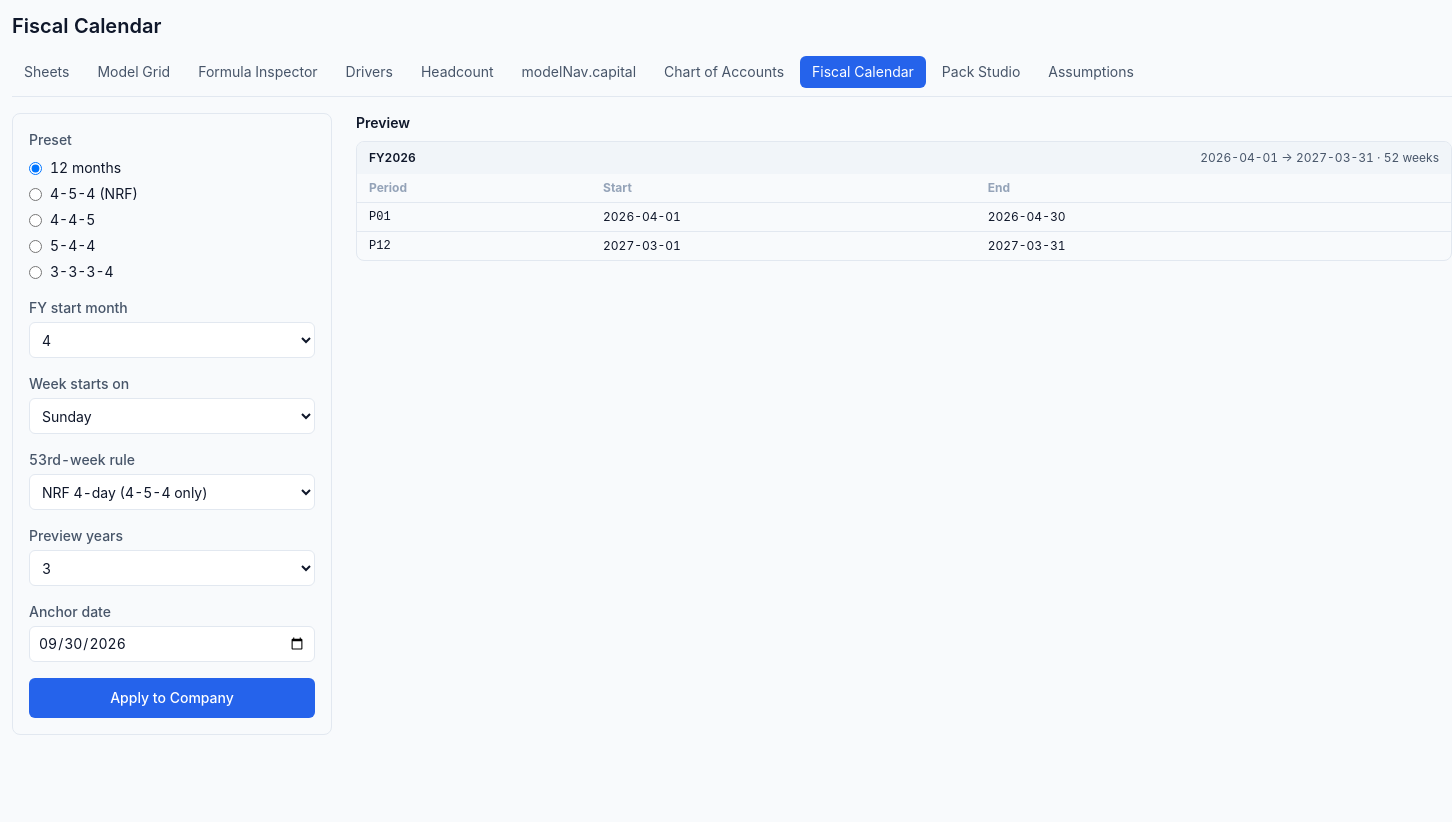
Test case: S-022 Fiscal Calendar (F-003) › scopes the NRF rule to 4-5-4 and hides a stale applied banner on change
Check: the text "P01" is shown, box x1=357 y1=202 x2=591 y2=232
Click the button "Apply to Company". click: (172, 698)
box: x1=29 y1=678 x2=315 y2=718
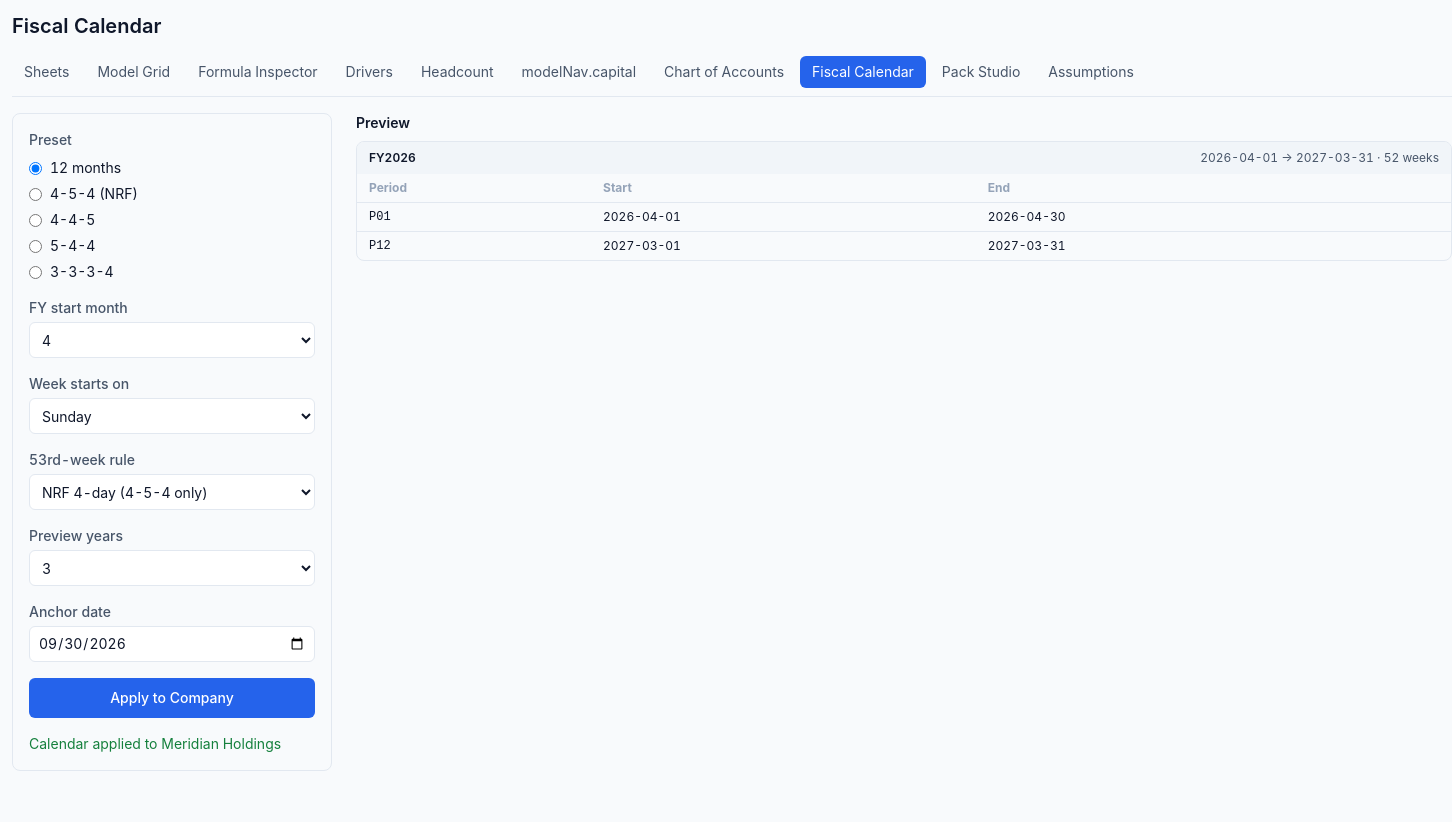
Check: the text "Calendar applied to Meridian Holdings" is shown, box x1=29 y1=734 x2=315 y2=754
# Switching preset away from 12month resets the year-end rule default (454 → nrf_4_day)
Click the radio button labelled "4-5-4 (NRF)". click: (36, 194)
box: x1=29 y1=188 x2=42 y2=200
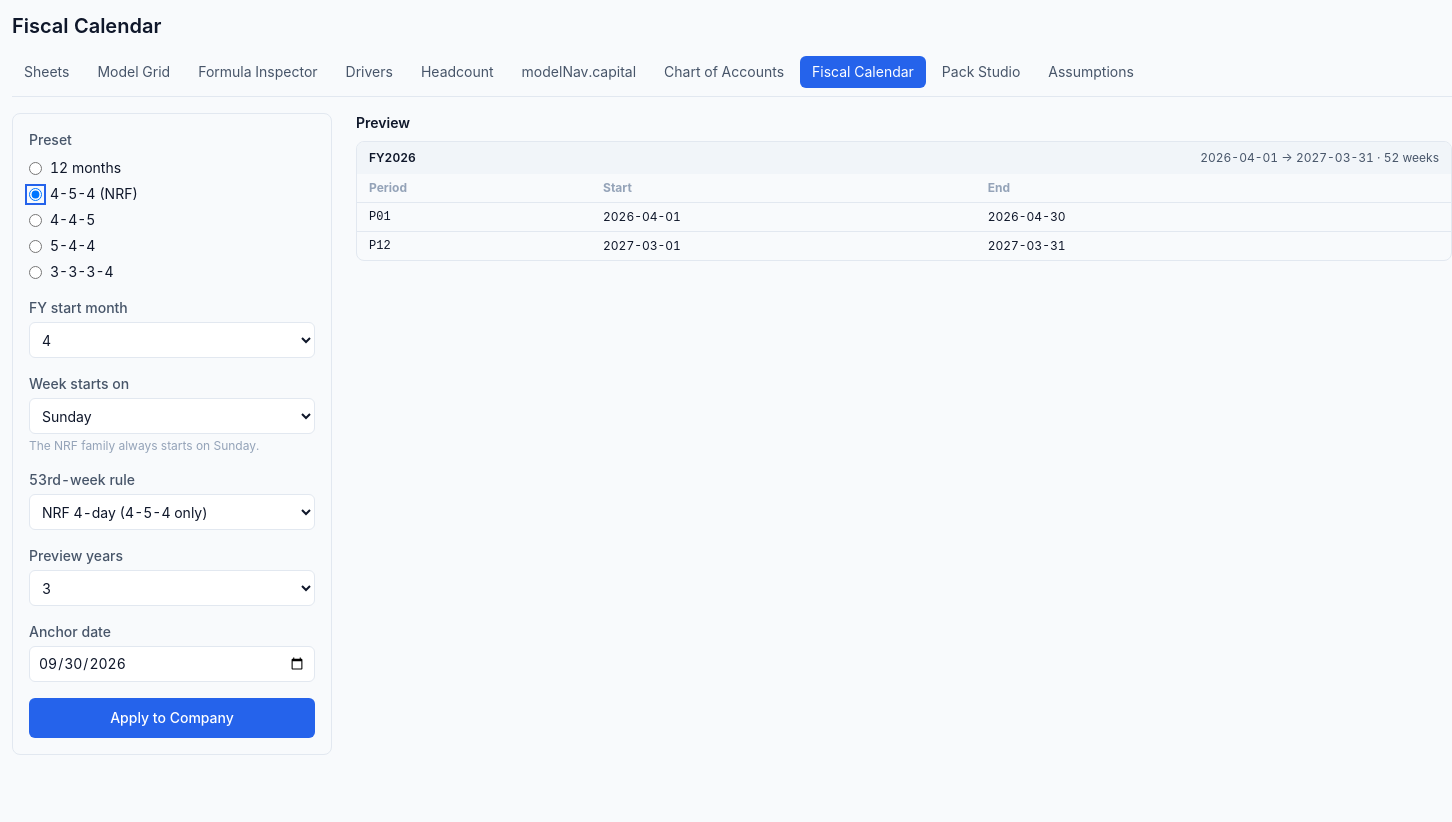
Check: the text "Calendar applied to Meridian Holdings" is gone
